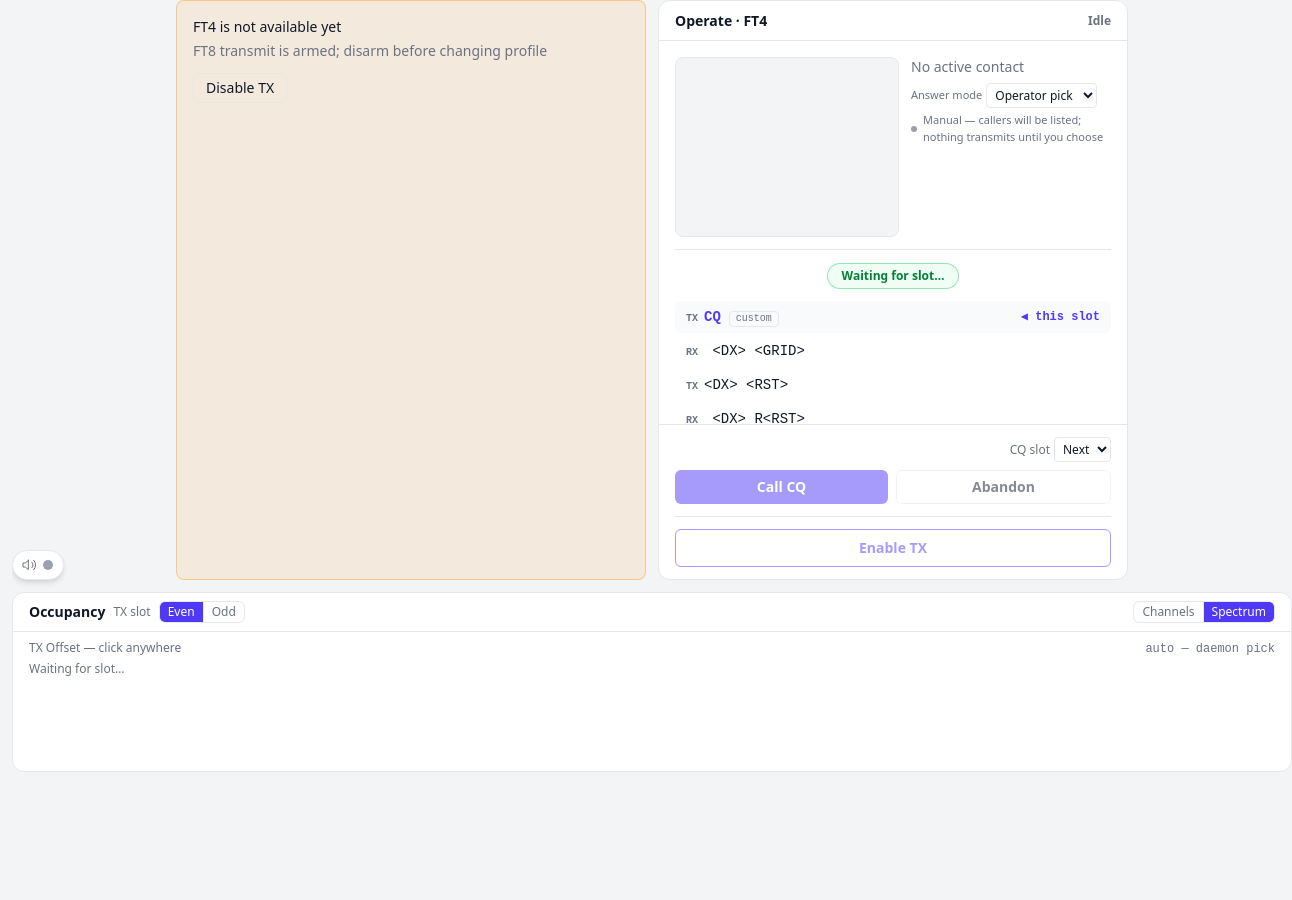
Test case: Ft8View — stop paths through a refused claim › a re-claim refused after the stop action shows the new reason, and opens nothing
Click the button "Disable TX": {"x": 240, "y": 88} [193,73,287,103]
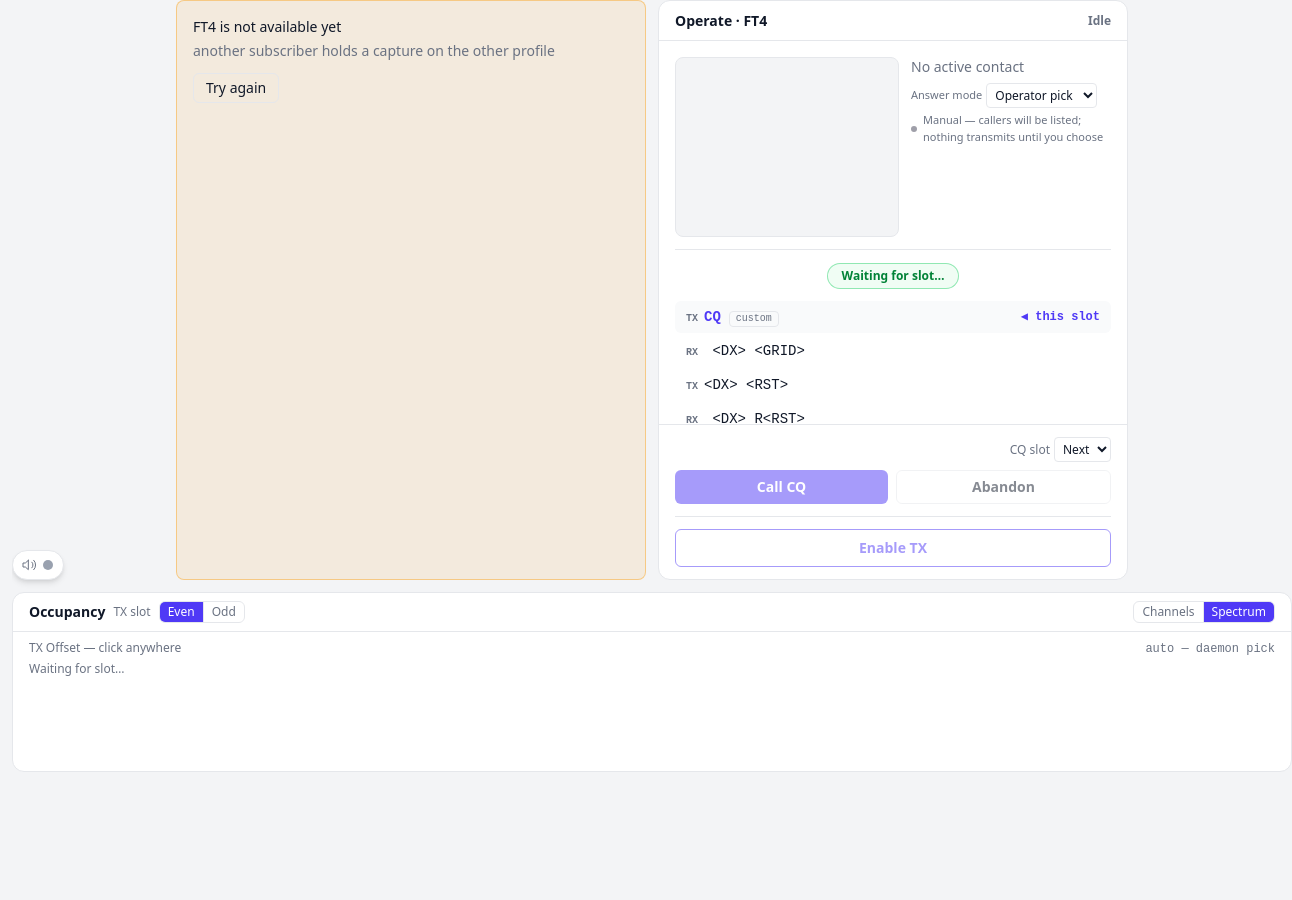
Result: the text "another subscriber holds a capture on the other profile" is shown at [193,41,555,60]
Result: the button "Disable TX" is gone
